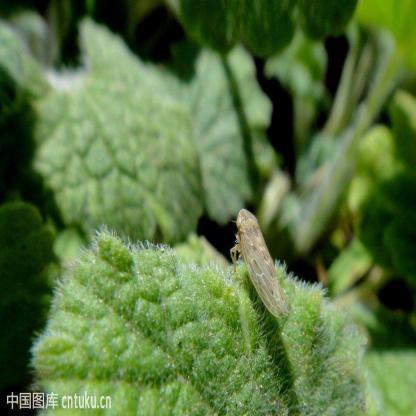green-leafhopper: (230, 208, 286, 324)
